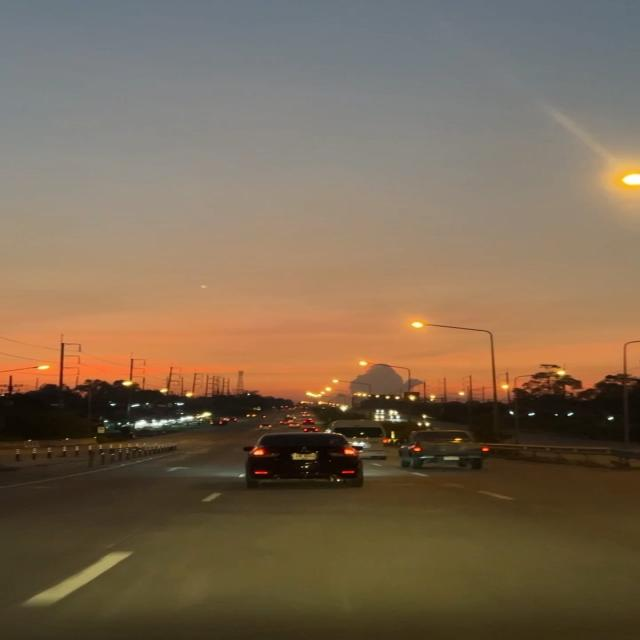Poth-hole: (108, 524, 624, 637)
